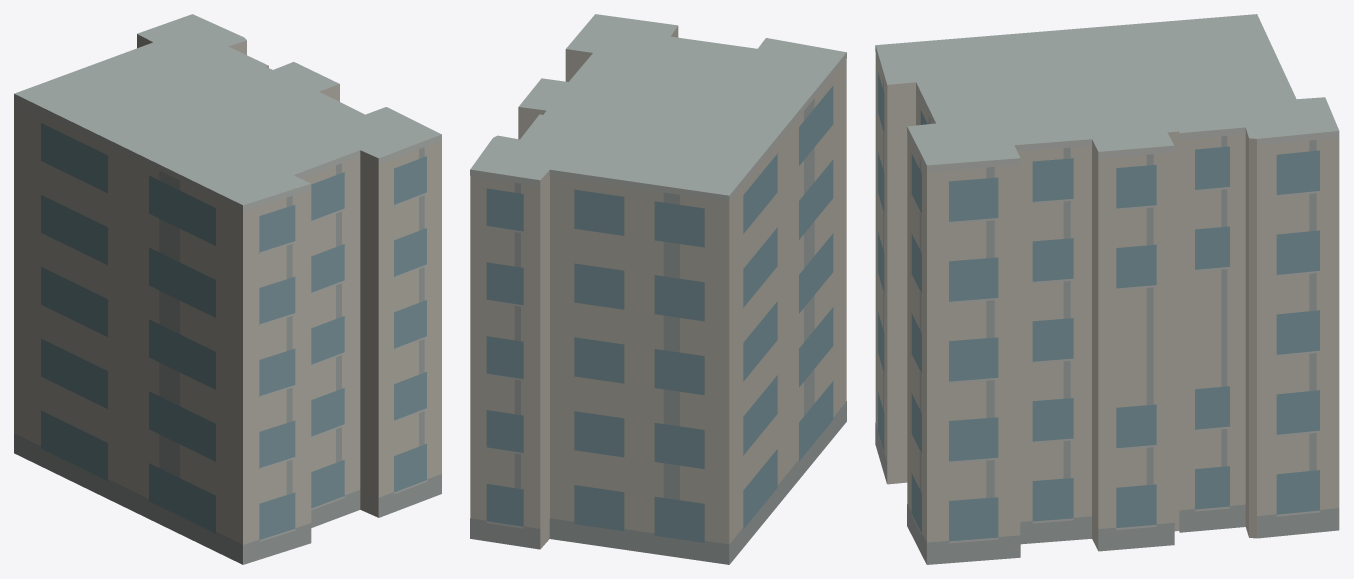
File: survey-upis-32720370.glb
3 renders of one model, left to right at view 1: azimuth 30°, elevation 25°; view 2: azimuth 150°, elevation 25°; view 3: azimuth 270°, elevation 25°, orthographic. The views are drawn at different scales.
Visible parts, largest first — view 1: survey-upis-32720370.tmp; view 2: survey-upis-32720370.tmp; view 3: survey-upis-32720370.tmp.
Boxes of the visible parts, <box> form: survey-upis-32720370.tmp: <box>14,14,441,564</box>; survey-upis-32720370.tmp: <box>470,14,846,564</box>; survey-upis-32720370.tmp: <box>875,14,1339,564</box>.
Bounding box in the file's own units: 11.71 × 14.4 × 15.16.
